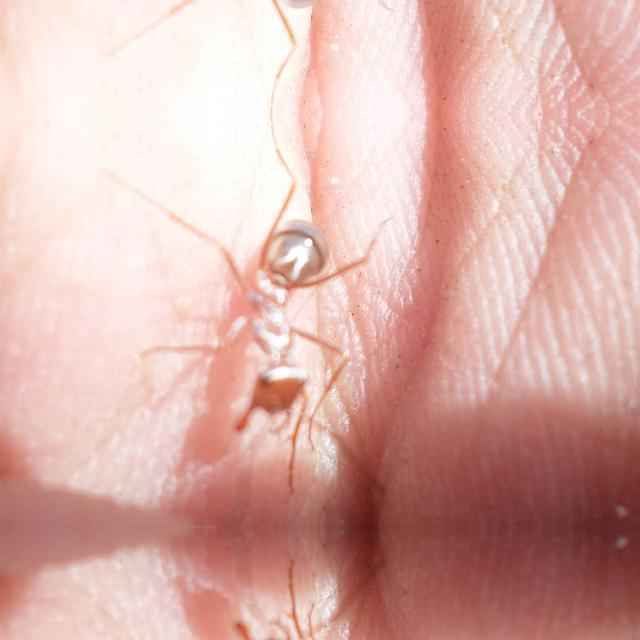Cataglyphis: (123, 190, 384, 500), (122, 552, 384, 640)
